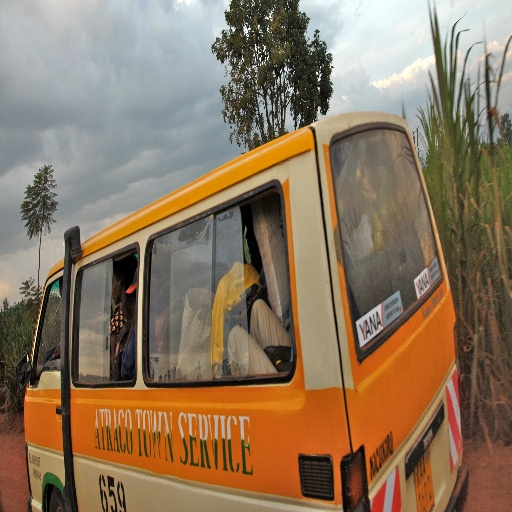hand: (156, 303, 169, 353), (116, 317, 133, 349), (264, 344, 276, 364), (51, 345, 60, 360)
